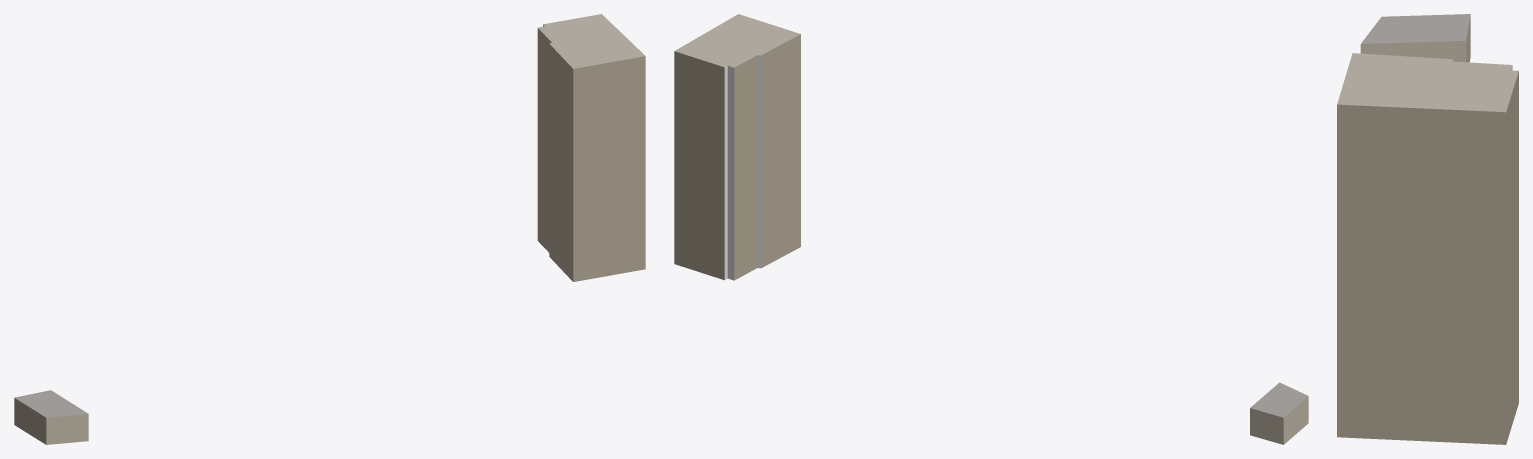
3 views of the same model, side by side, from view 1: azimuth 30°, elevation 25°; view 2: azimuth 150°, elevation 25°; view 3: azimuth 270°, elevation 25° (orthographic). The views are drawn at different scales.
Parts seen in each view (by area): view 1: tuile; view 2: tuile; view 3: tuile.
Boxes of the visible parts, box(x1,y1,x2,y2) form: tuile: box(14, 14, 645, 444); tuile: box(674, 14, 1308, 444); tuile: box(1337, 14, 1518, 444).
Size of the model in its own units: 119 by 48.59 by 20.
